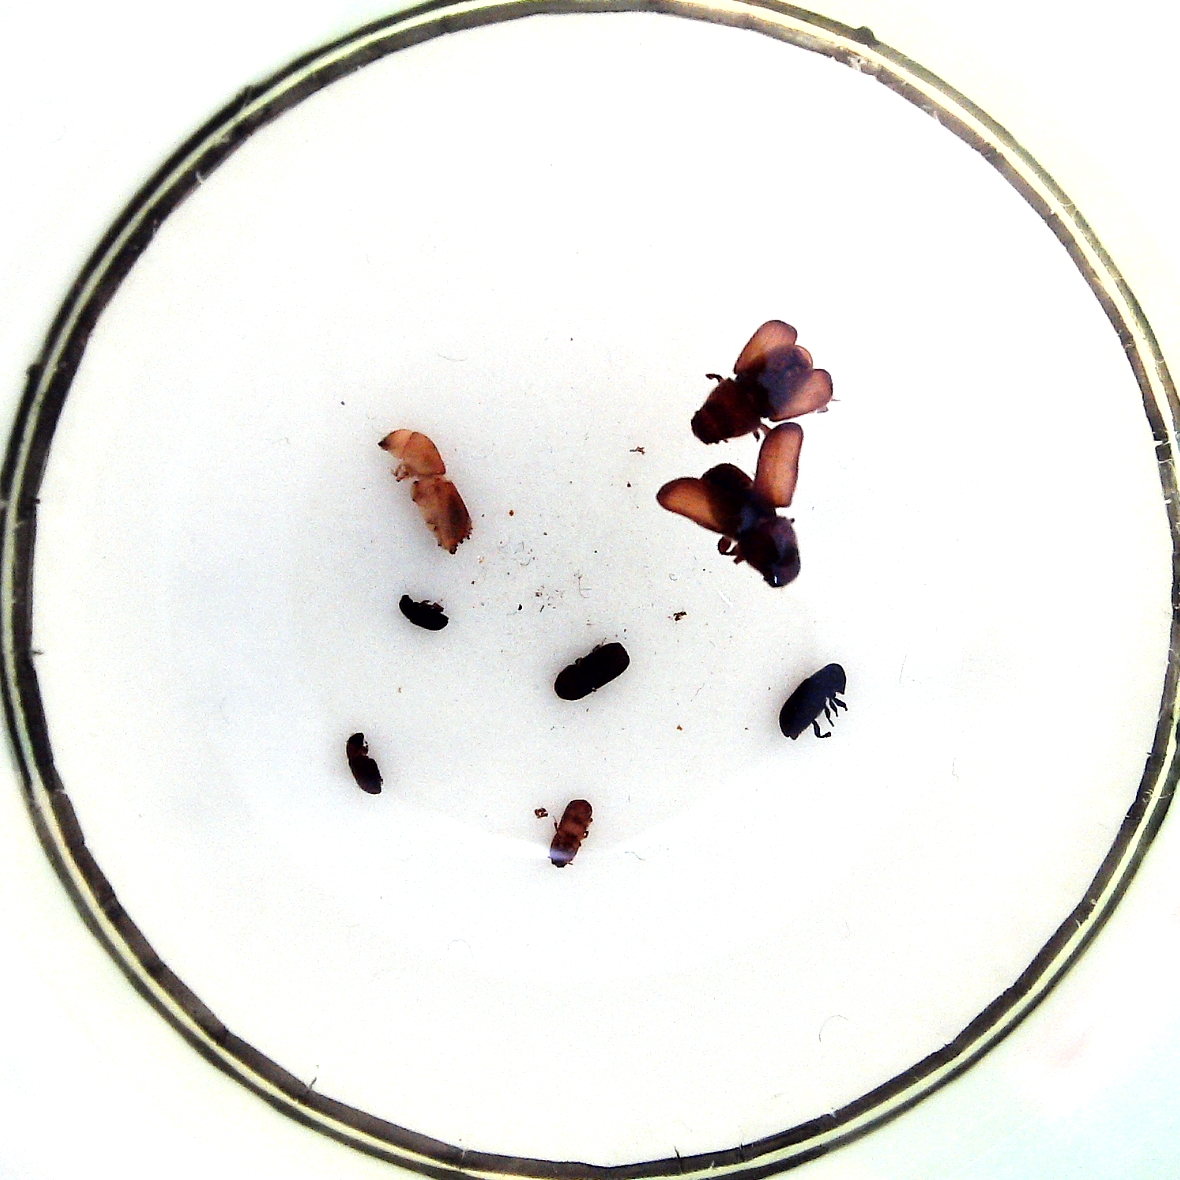Boerner: (377, 428, 473, 555)
Leconte: (700, 462, 800, 589), (692, 345, 815, 445)
acuminatus: (347, 733, 383, 795), (399, 593, 450, 632)
armandi: (780, 663, 846, 741)
coleoptera: (549, 799, 593, 868)
linnaeus: (553, 642, 630, 700)
